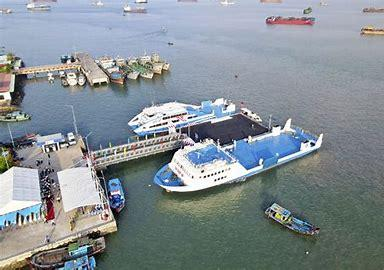Ship: (155, 120, 324, 193), (129, 99, 237, 137), (266, 204, 320, 235), (96, 57, 126, 85), (125, 56, 153, 79), (108, 180, 126, 214), (117, 60, 140, 80), (140, 57, 163, 75), (267, 17, 316, 25), (69, 74, 78, 85)
